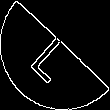L_NE: (27, 26, 83, 84)
